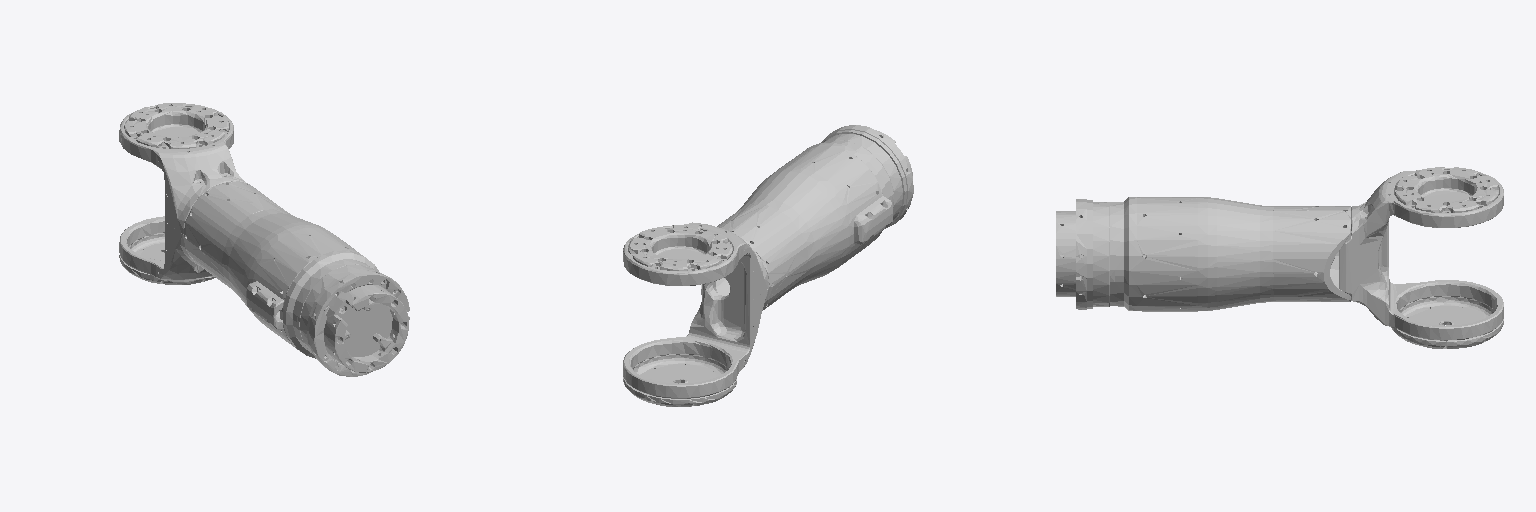
The model's file is shoulderYawRight.obj.
3 renders of one model, left to right at view 1: azimuth 30°, elevation 25°; view 2: azimuth 150°, elevation 25°; view 3: azimuth 270°, elevation 25°, orthographic.
Visible parts, largest first — view 1: shoulderYawRight; view 2: shoulderYawRight; view 3: shoulderYawRight.
Part boxes in pixels (bbox=[...]): shoulderYawRight: bbox=[119, 103, 409, 376]; shoulderYawRight: bbox=[623, 125, 913, 406]; shoulderYawRight: bbox=[1056, 167, 1503, 348].
Bounding box in the file's own units: 0.065 × 0.0805 × 0.2342.